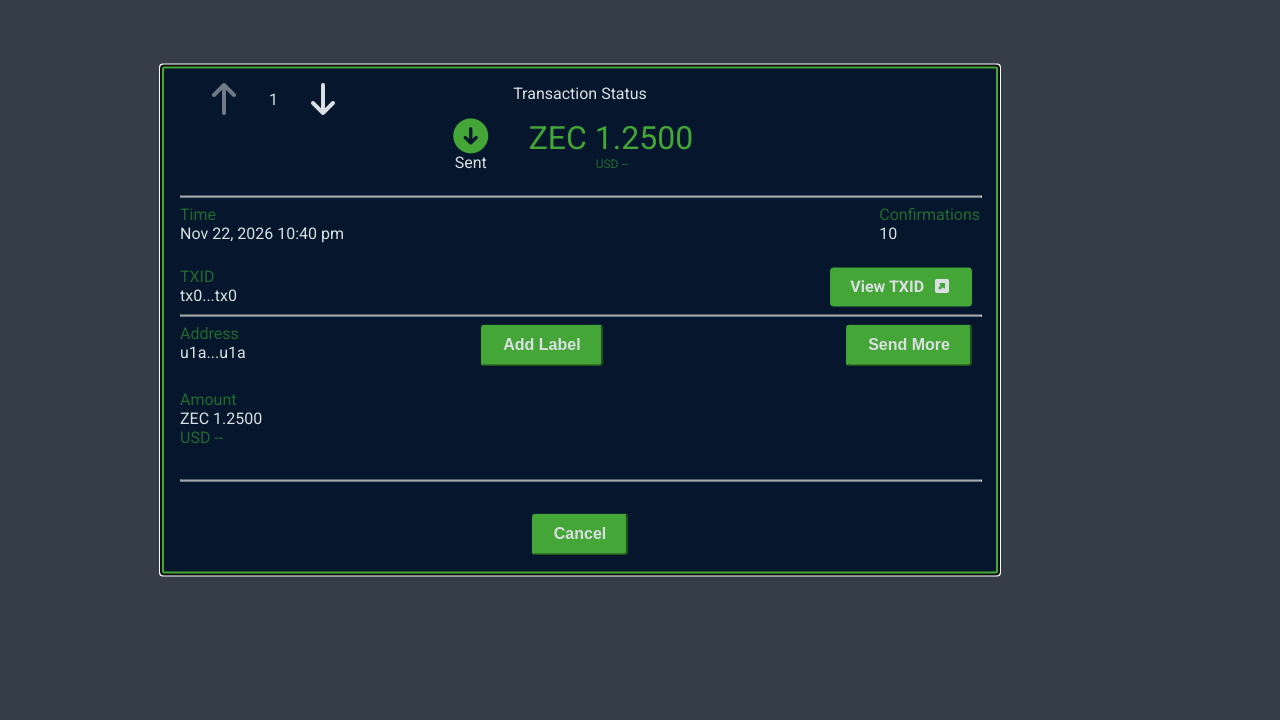
it: VtModal › navigates forward when arrow-down is clicked
Click the button named "Next transaction" at point(323, 99), box [303,83,343,115]
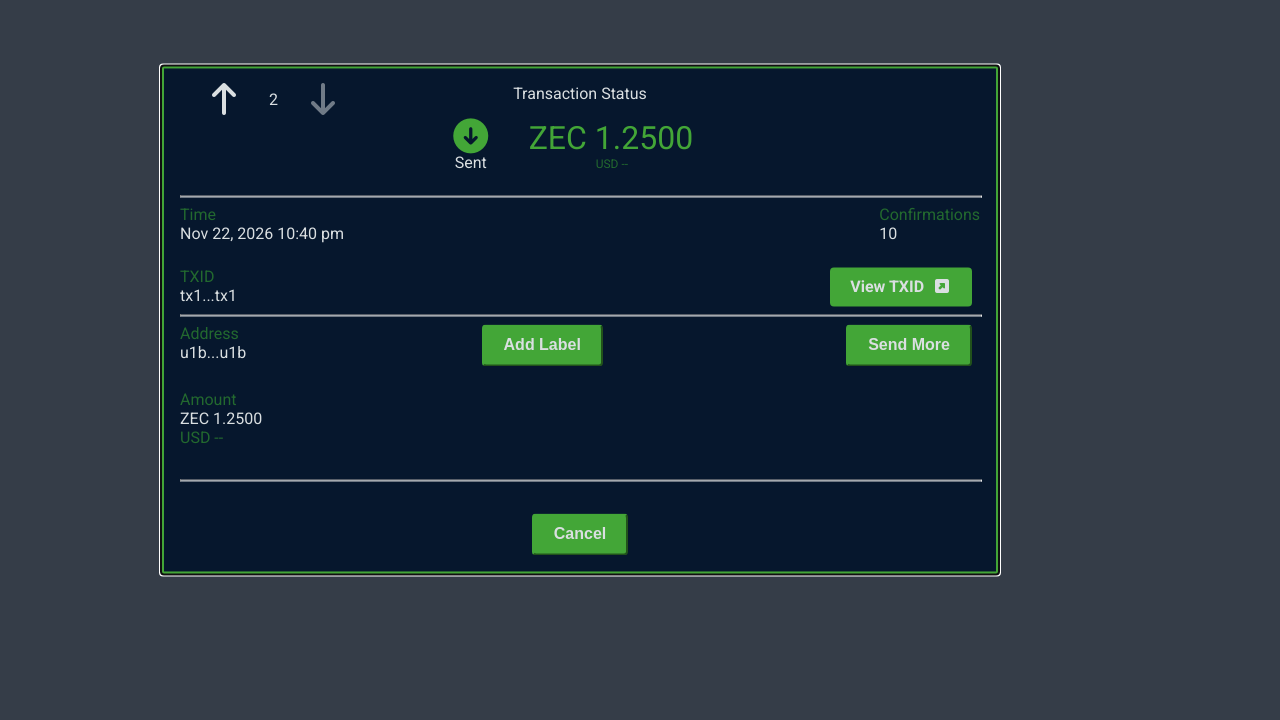
Check: the text "2" is shown, box [269,90,278,109]
